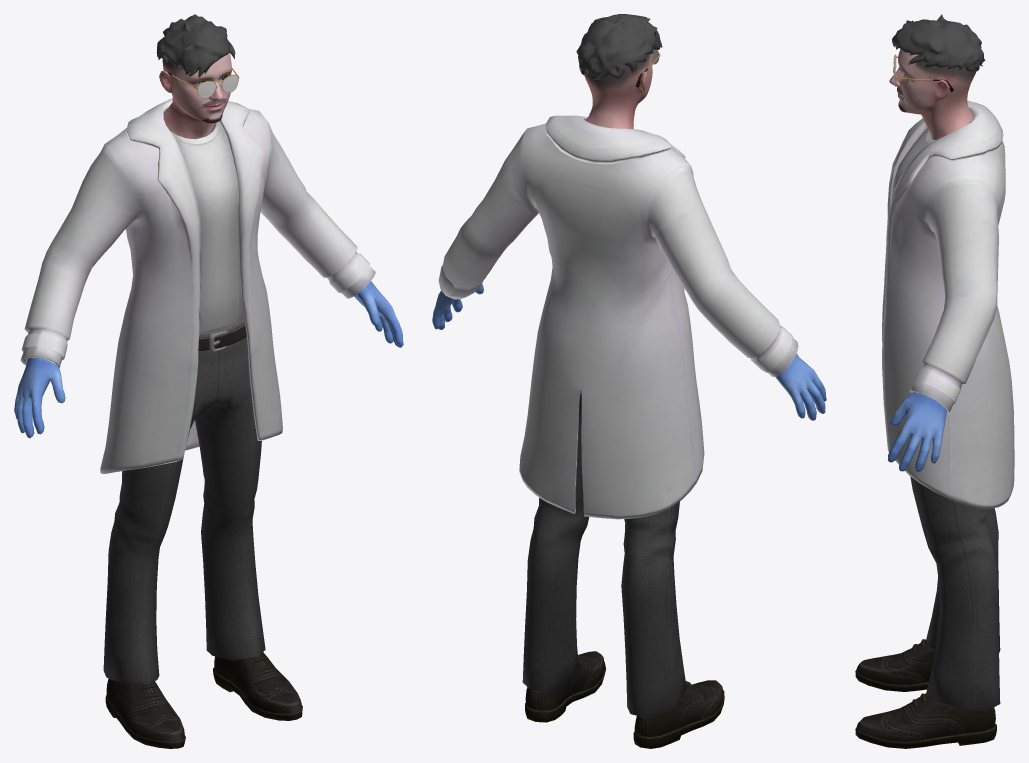
File: Doctor.fbx
The picture shows the model from 3 angles, left to right: view 1: azimuth 30°, elevation 25°; view 2: azimuth 150°, elevation 25°; view 3: azimuth 270°, elevation 25°; orthographic projection.
Visible parts, largest first — view 1: Wolf3D_Outfit_Top, Wolf3D_Outfit_Bottom, Wolf3D_Outfit_Footwear, Wolf3D_Head, Wolf3D_Hair, Wolf3D_Glasses; view 2: Wolf3D_Outfit_Top, Wolf3D_Outfit_Bottom, Wolf3D_Outfit_Footwear, Wolf3D_Hair, Wolf3D_Head; view 3: Wolf3D_Outfit_Top, Wolf3D_Outfit_Bottom, Wolf3D_Outfit_Footwear, Wolf3D_Head, Wolf3D_Hair.
Boxes of the visible parts, box(x1,y1,x2,y2) form: Wolf3D_Outfit_Top: box(14, 98, 403, 473); Wolf3D_Outfit_Bottom: box(103, 319, 265, 684); Wolf3D_Outfit_Footwear: box(105, 651, 302, 748); Wolf3D_Head: box(159, 52, 232, 138); Wolf3D_Hair: box(156, 14, 235, 77); Wolf3D_Glasses: box(165, 68, 239, 98); Wolf3D_Outfit_Top: box(432, 115, 826, 519); Wolf3D_Outfit_Bottom: box(522, 390, 686, 718); Wolf3D_Outfit_Footwear: box(525, 651, 724, 748); Wolf3D_Hair: box(576, 14, 662, 79); Wolf3D_Head: box(579, 54, 652, 128); Wolf3D_Outfit_Top: box(882, 100, 1014, 508); Wolf3D_Outfit_Bottom: box(910, 476, 1000, 710); Wolf3D_Outfit_Footwear: box(855, 639, 996, 748); Wolf3D_Head: box(889, 49, 976, 139); Wolf3D_Hair: box(892, 14, 985, 71).
Size of the model in its own units: 106 by 186 by 38.68.
Materials: 8 (8 with a texture image).
